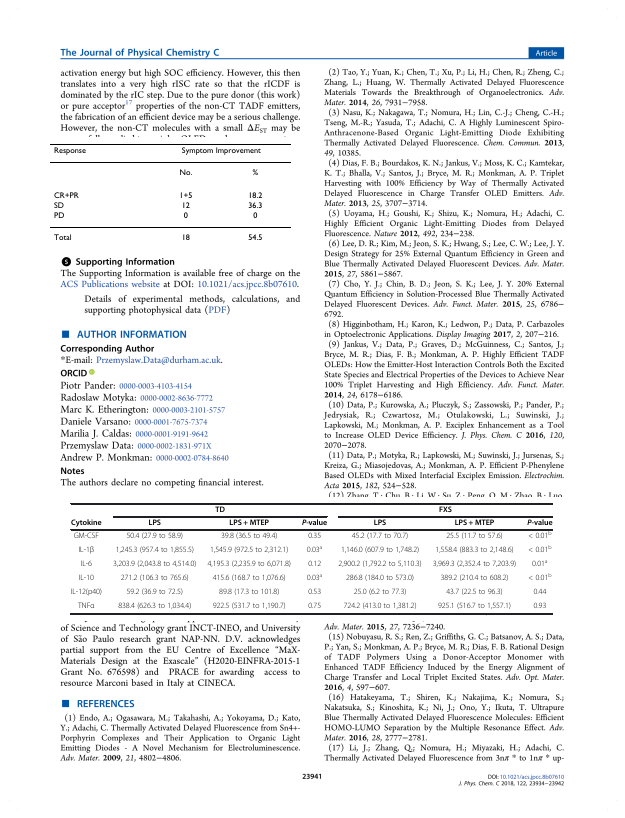borderless: (69, 502, 552, 613), (48, 142, 292, 251)
cell: (206, 560, 292, 570), (337, 560, 423, 570), (112, 560, 197, 570), (432, 560, 517, 570), (115, 546, 195, 556), (209, 546, 289, 556), (340, 546, 420, 556), (434, 546, 514, 556), (212, 574, 287, 584), (117, 602, 192, 612), (212, 602, 287, 612), (342, 602, 417, 612), (437, 602, 512, 612), (180, 147, 261, 156), (120, 574, 190, 584), (345, 574, 415, 584), (439, 574, 509, 584), (218, 588, 280, 598), (125, 532, 184, 542), (445, 532, 504, 542), (125, 588, 184, 598), (445, 588, 504, 598), (220, 532, 278, 542), (351, 532, 409, 542), (353, 588, 407, 598), (228, 519, 270, 529), (454, 519, 495, 529), (70, 588, 103, 598), (70, 519, 102, 529), (52, 147, 86, 156), (527, 531, 552, 542), (527, 545, 552, 556), (527, 573, 552, 584), (52, 191, 79, 201), (301, 519, 328, 529), (526, 519, 553, 529), (73, 532, 100, 542), (306, 545, 323, 556), (531, 559, 548, 570), (306, 573, 323, 584), (52, 234, 72, 243), (77, 546, 95, 556), (77, 602, 95, 612), (78, 574, 95, 584), (247, 191, 263, 201), (247, 201, 263, 211), (178, 191, 193, 201), (147, 519, 162, 529), (307, 532, 322, 542), (307, 560, 322, 570), (307, 588, 322, 598), (532, 588, 547, 598), (307, 602, 322, 612), (532, 602, 547, 612), (247, 234, 263, 243), (373, 519, 387, 529), (79, 560, 93, 570), (178, 169, 193, 178), (438, 506, 453, 515), (52, 201, 64, 211), (52, 212, 65, 221), (214, 506, 226, 515), (180, 201, 190, 211), (180, 234, 190, 243), (251, 169, 259, 178), (182, 212, 188, 221), (252, 212, 258, 221)
